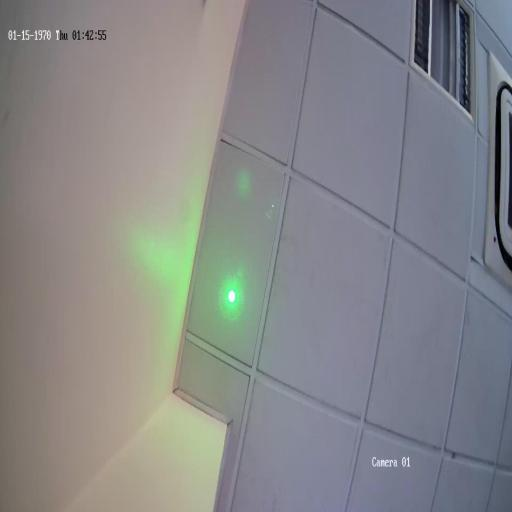laser: (226, 286, 238, 305)
